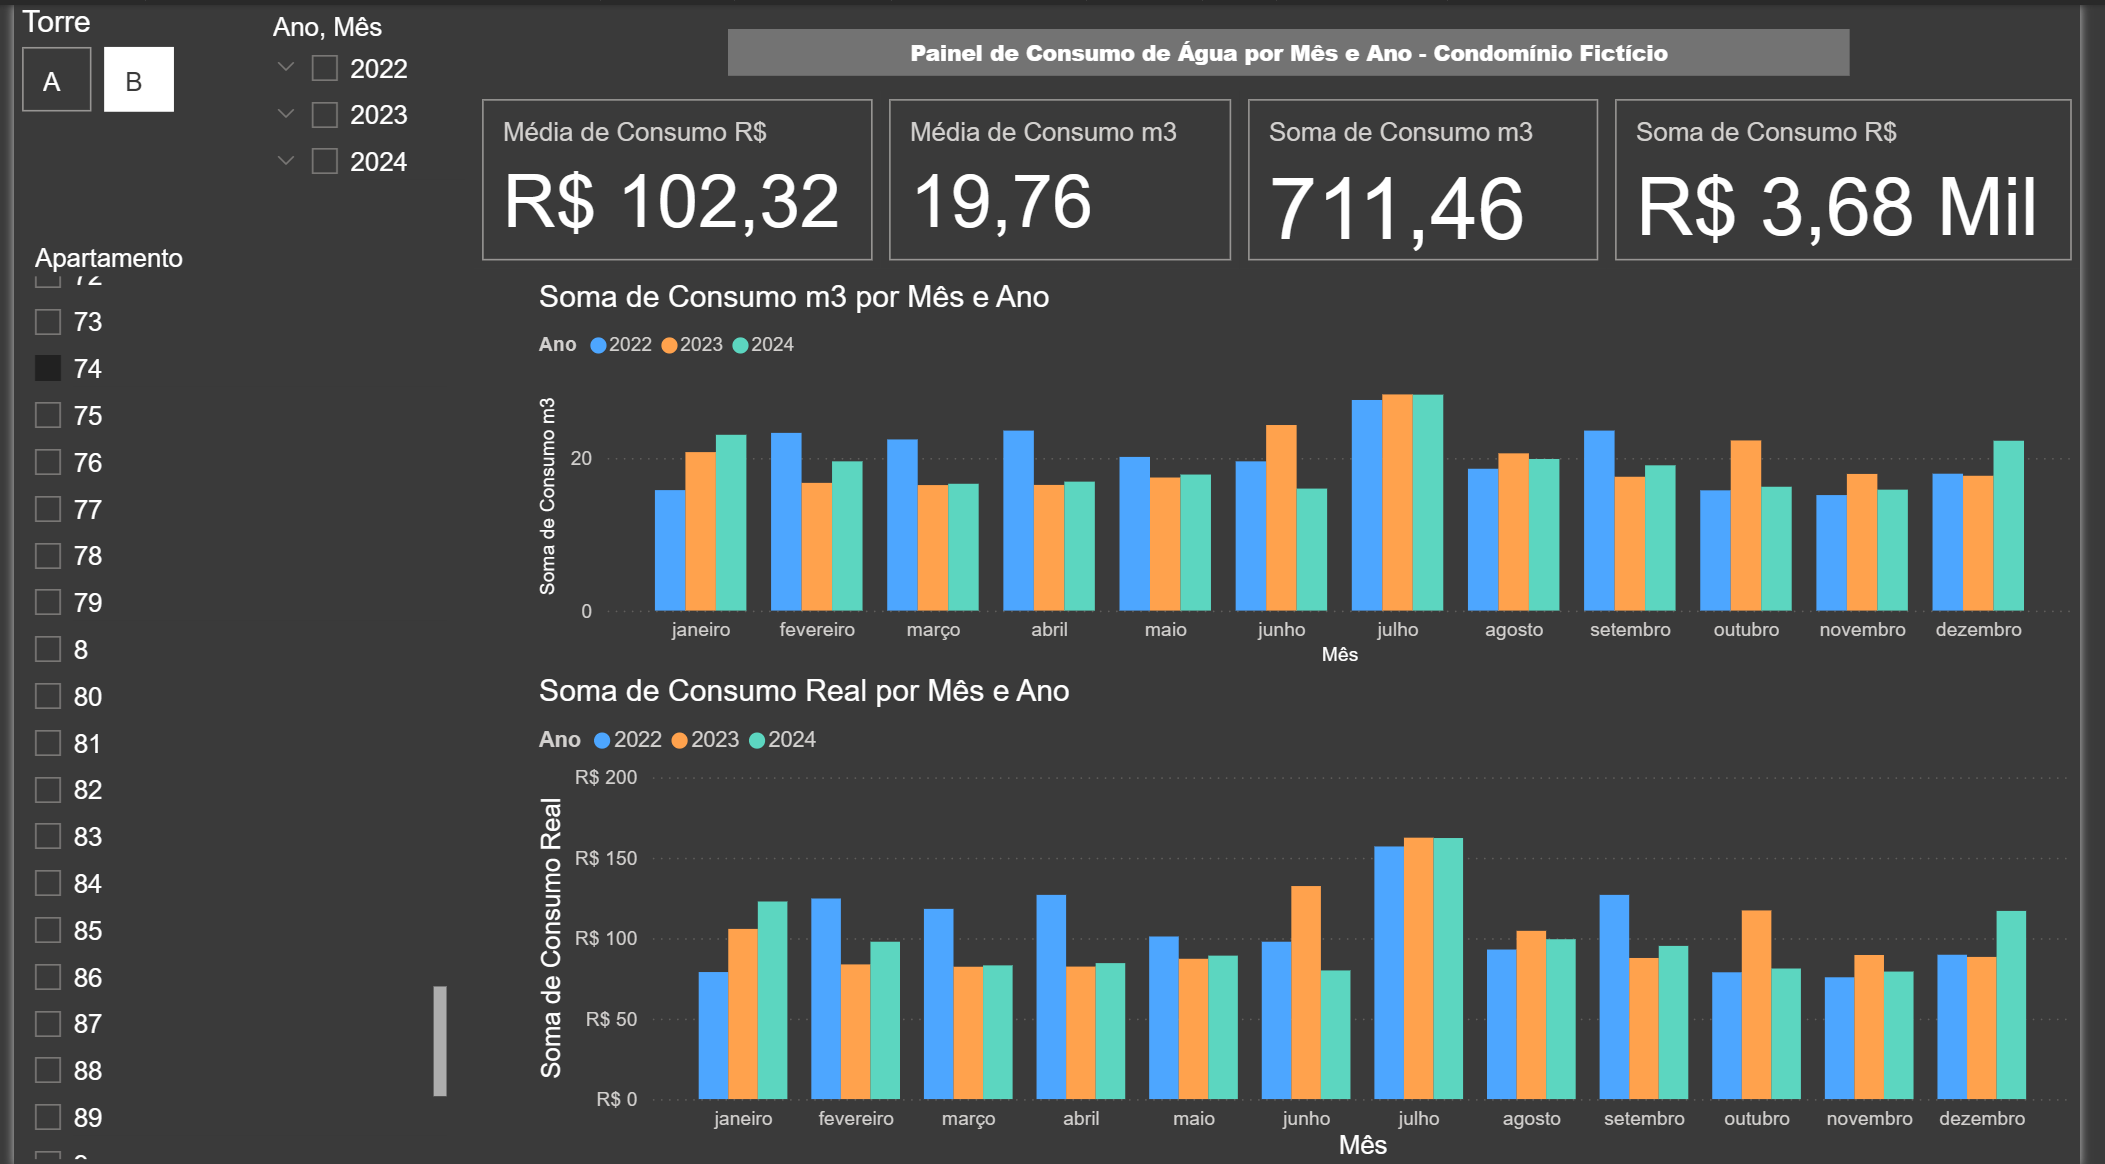

Layout of this report page (visuals, bound fields, positions):
{"tool":"powerbi","page":{"name":"Página 1","canvas":[1280,720],"ordinal":0},"visuals":[{"type":"cardVisual","fields":{"Data":["Sum(consumo_agua_condominio_2022_2024 (2).Consumo Real)"]},"box":[987.1,53.3,293.1,110.3],"z":0},{"type":"slicer","fields":{"Values":["consumo_agua_condominio_2022_2024 (2).Apartamento"]},"box":[0,143.1,273.3,576.9],"z":1000},{"type":"advancedSlicerVisual","fields":{"Values":["consumo_agua_condominio_2022_2024 (2).Torre"]},"box":[0,0,157.1,72],"z":2000},{"type":"slicer","fields":{"Values":["Calendario.Date.Variation.Hierarquia de datas.Ano","Calendario.Date.Variation.Hierarquia de datas.Mês"]},"box":[147.2,0,137.4,121.7],"z":3000},{"type":"clusteredColumnChart","fields":{"Y":["Sum(consumo_agua_condominio_2022_2024 (2).Consumo Real)"],"Category":["consumo_agua_condominio_2022_2024 (2).Mês"],"Series":["consumo_agua_condominio_2022_2024 (2).Ano"]},"box":[320.1,414.3,960.2,305.7],"z":4000},{"type":"clusteredColumnChart","fields":{"Y":["Sum(consumo_agua_condominio_2022_2024 (2).Consumo m3)"],"Series":["consumo_agua_condominio_2022_2024 (2).Ano"],"Category":["consumo_agua_condominio_2022_2024 (2).Mês"]},"box":[320.2,170.1,959.8,243.9],"z":5000},{"type":"cardVisual","fields":{"Data":["Sum(consumo_agua_condominio_2022_2024 (2).Consumo m3)"]},"box":[759.7,53.3,227.4,110.3],"z":6000},{"type":"textbox","box":[442.4,14.9,695.2,29.1],"z":7000},{"type":"cardVisual","fields":{"Data":["Avg(consumo_agua_condominio_2022_2024 (2).Consumo Real)"]},"box":[285,53.3,252.2,110.3],"z":8000},{"type":"cardVisual","fields":{"Data":["Avg(consumo_agua_condominio_2022_2024 (2).Consumo m3)"]},"box":[537.2,53.3,222.4,110.3],"z":9000}]}

Visuals, with their boxes in screenshot pixels (x1, y1, x2, y2), scaled from the page's 1280x720 canvas onto the 2105x1164 screenshot:
cardVisual - Sum(consumo_agua_condominio_2022_2024 (2).Consumo Real): [left=1623, top=86, right=2104, bottom=264]
slicer - consumo_agua_condominio_2022_2024 (2).Apartamento: [left=0, top=231, right=449, bottom=1163]
advancedSlicerVisual - consumo_agua_condominio_2022_2024 (2).Torre: [left=0, top=0, right=258, bottom=116]
slicer - Calendario.Date.Variation.Hierarquia de datas.Ano x Calendario.Date.Variation.Hierarquia de datas.Mês: [left=242, top=0, right=468, bottom=197]
clusteredColumnChart - Sum(consumo_agua_condominio_2022_2024 (2).Consumo Real) x consumo_agua_condominio_2022_2024 (2).Mês: [left=526, top=670, right=2104, bottom=1163]
clusteredColumnChart - Sum(consumo_agua_condominio_2022_2024 (2).Consumo m3) x consumo_agua_condominio_2022_2024 (2).Ano: [left=527, top=275, right=2104, bottom=669]
cardVisual - Sum(consumo_agua_condominio_2022_2024 (2).Consumo m3): [left=1249, top=86, right=1623, bottom=264]
textbox: [left=728, top=24, right=1871, bottom=71]
cardVisual - Avg(consumo_agua_condominio_2022_2024 (2).Consumo Real): [left=469, top=86, right=883, bottom=264]
cardVisual - Avg(consumo_agua_condominio_2022_2024 (2).Consumo m3): [left=883, top=86, right=1249, bottom=264]
